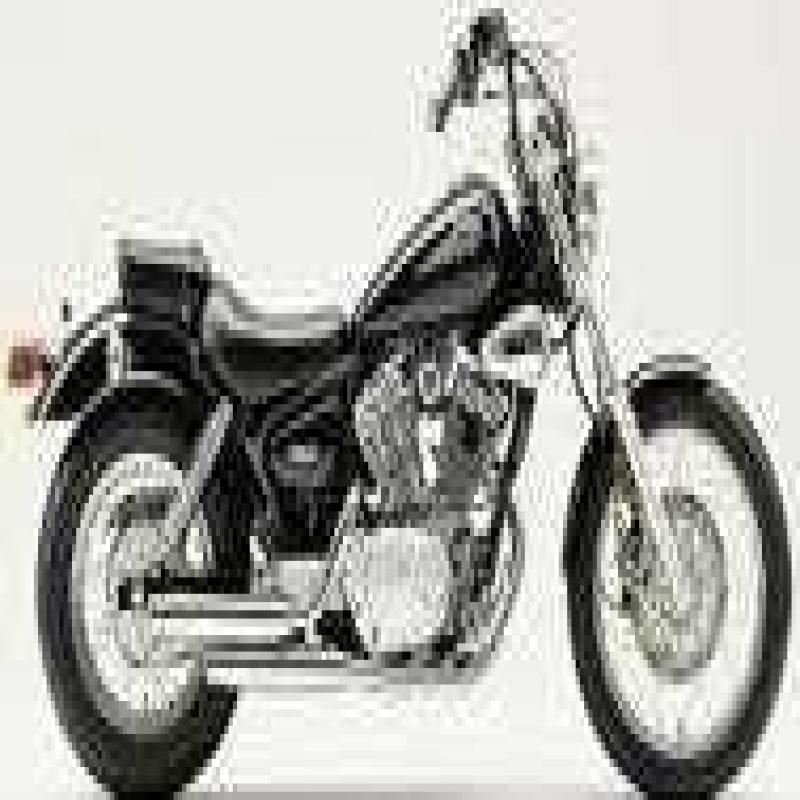bike: (18, 0, 800, 800)
